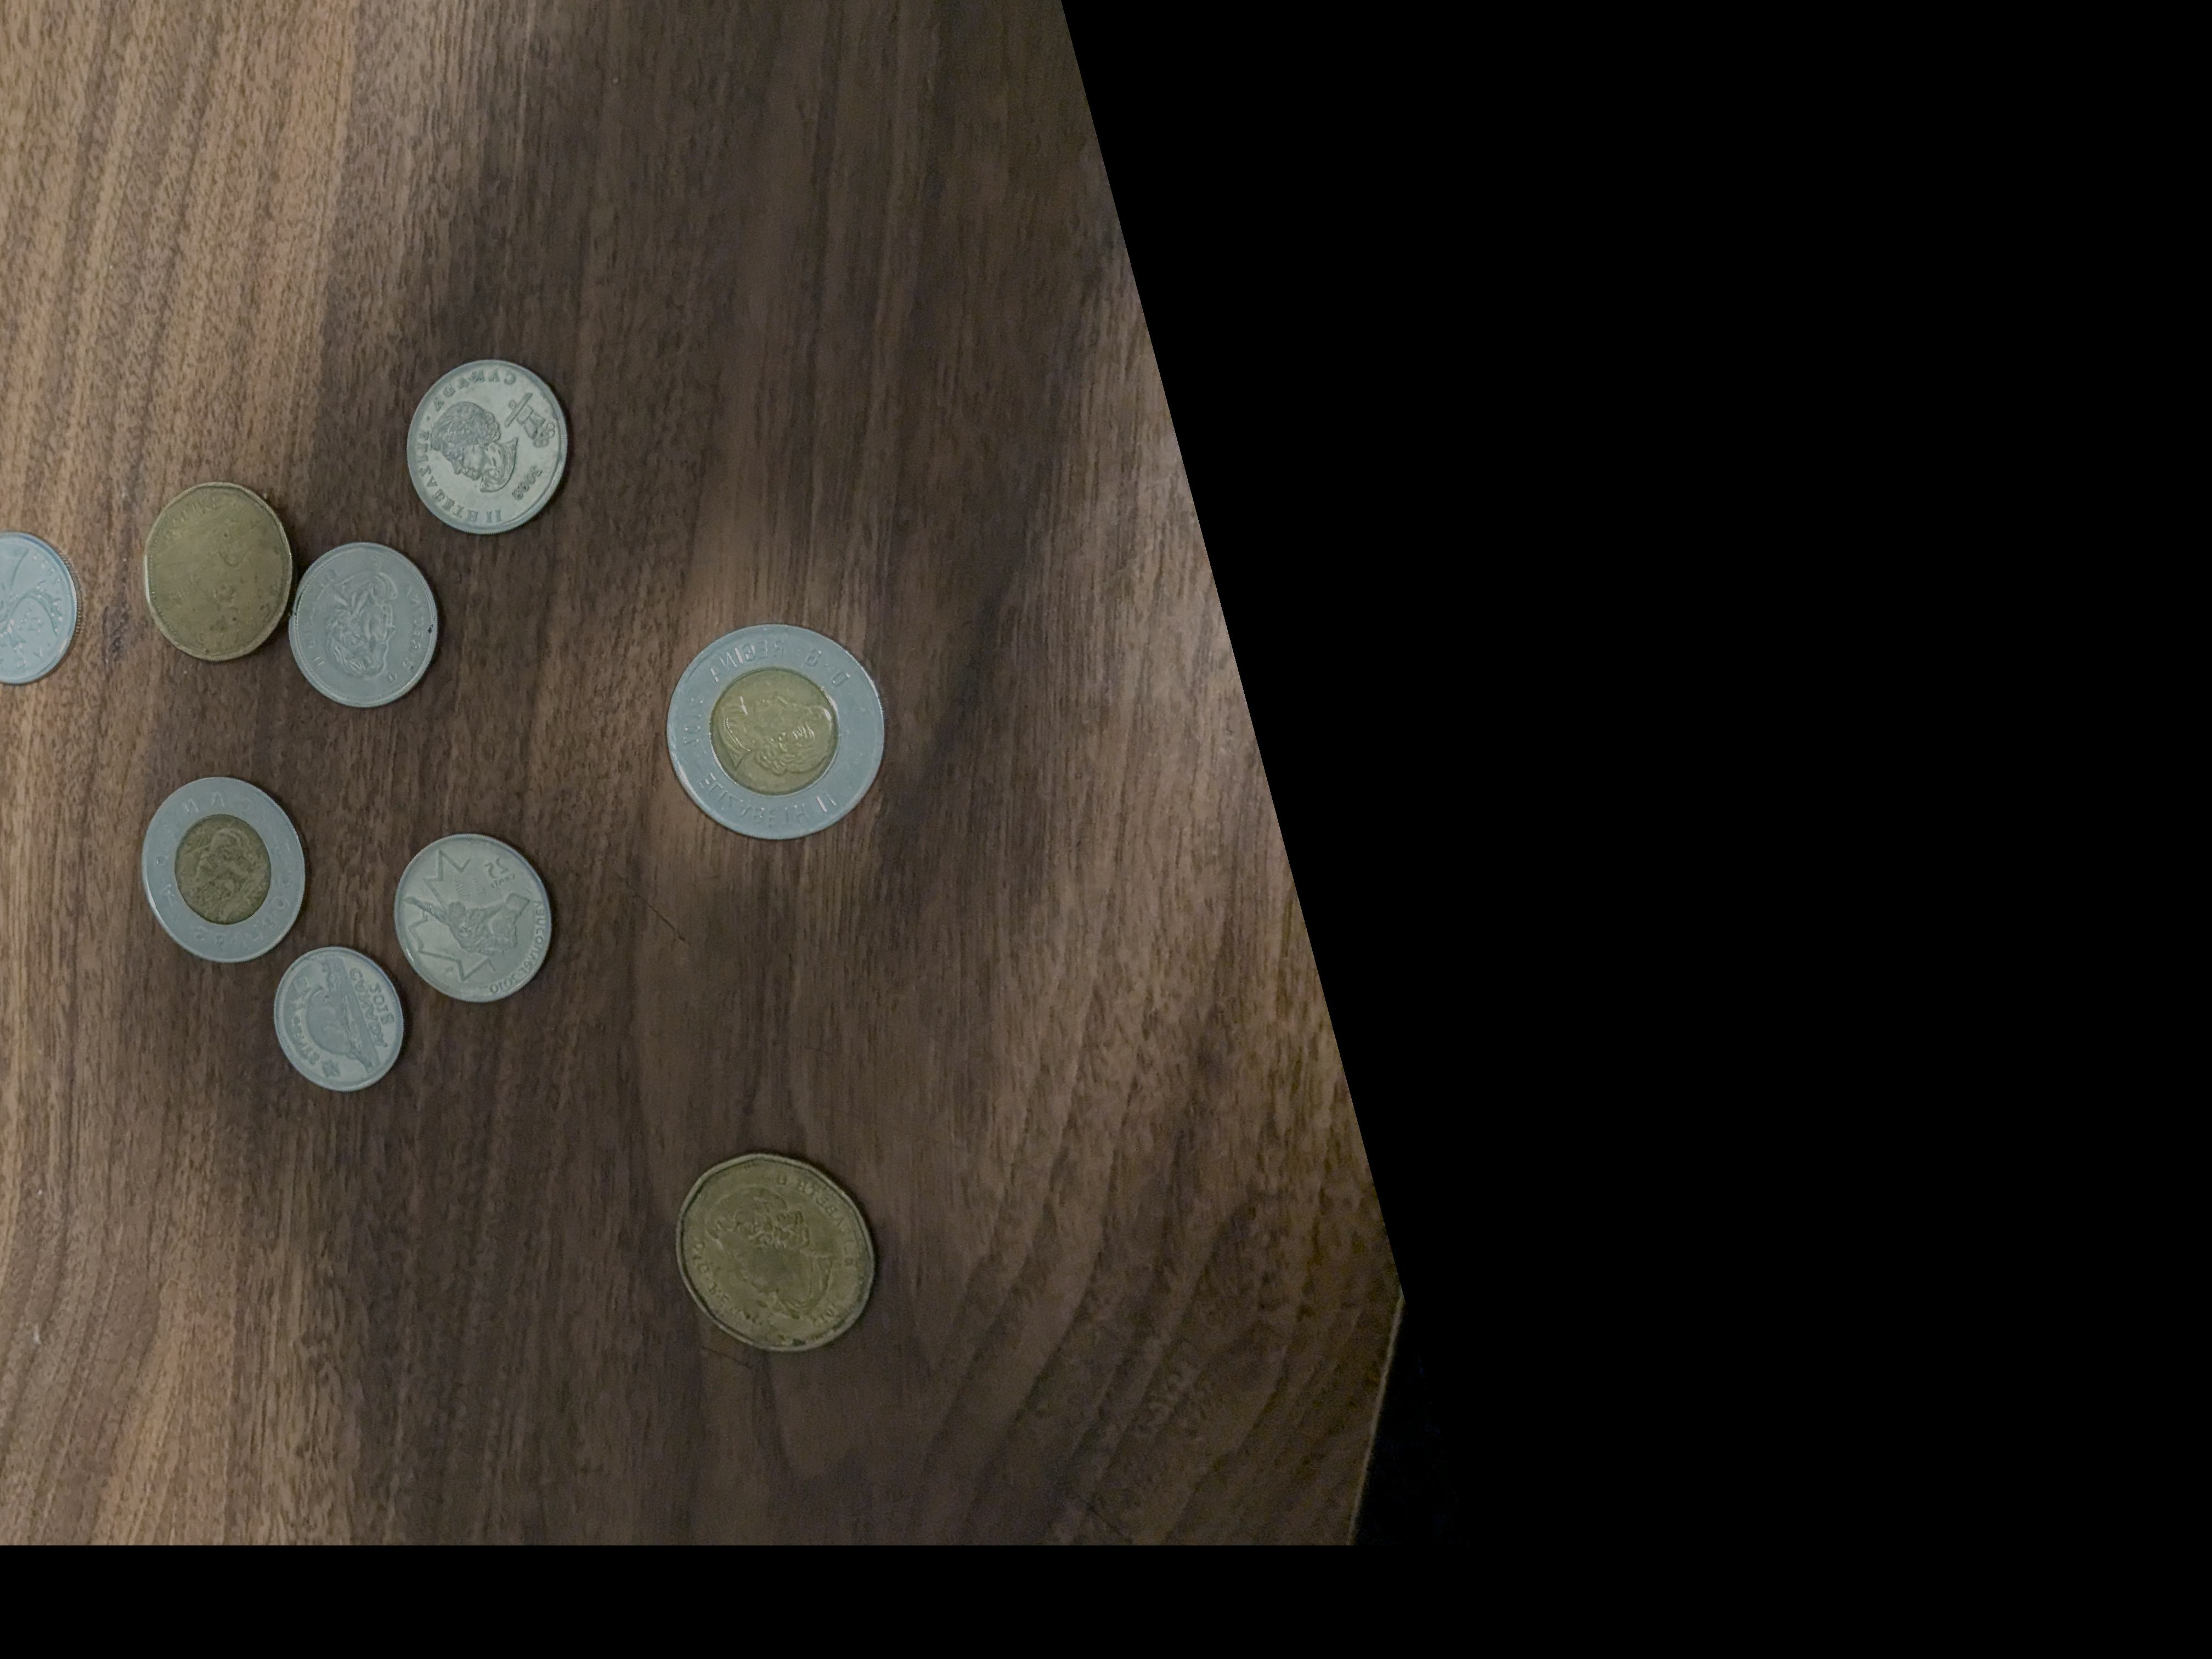loonie: (676, 1148, 880, 1354), (143, 479, 294, 664)
nickel: (273, 945, 409, 1094)
quarter: (406, 352, 566, 537), (394, 833, 556, 1002), (282, 540, 437, 714), (0, 537, 85, 690)
toonie: (665, 619, 887, 838), (134, 774, 307, 962)
